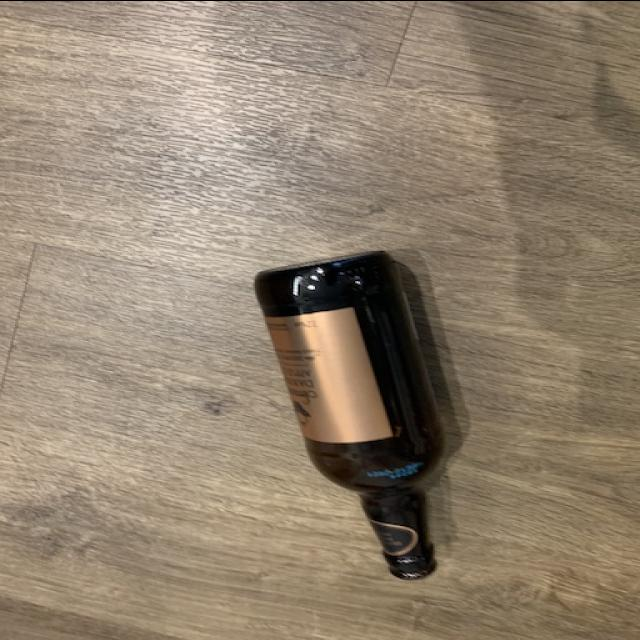Glass Bottle: (255, 245, 457, 585)
